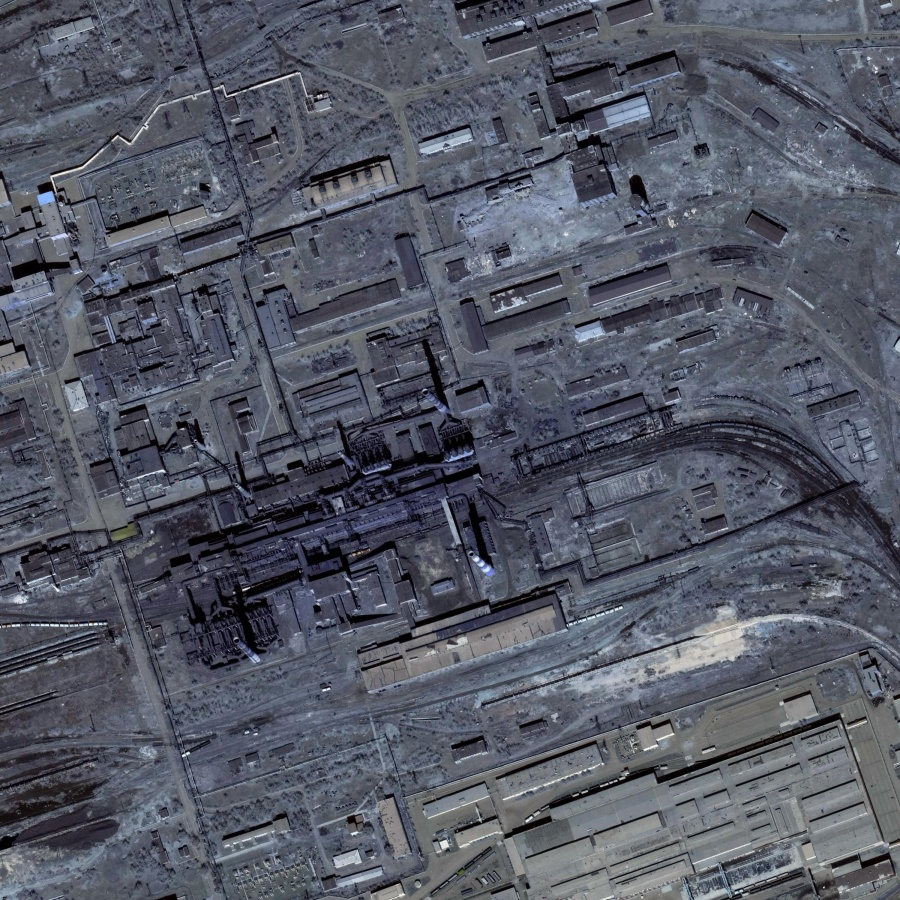PowerPlant: (163, 376, 515, 670)
